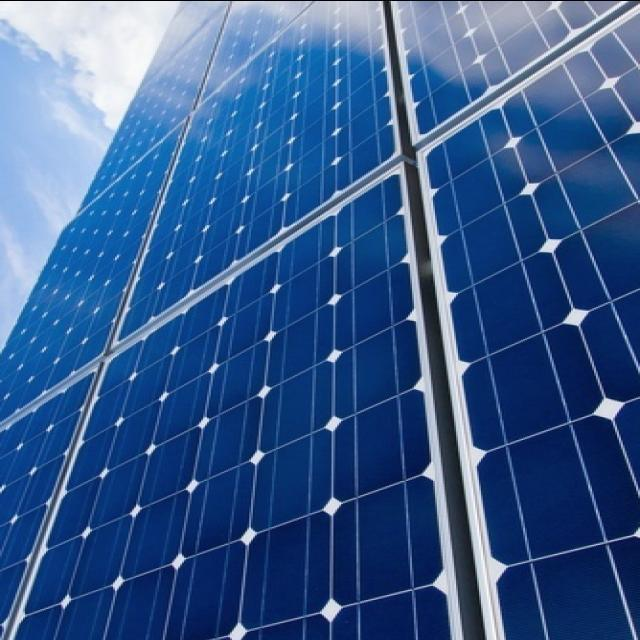no faulty: (15, 177, 452, 640), (430, 12, 640, 640), (118, 0, 397, 342), (0, 128, 180, 413), (77, 12, 223, 212), (400, 2, 618, 128), (0, 375, 92, 623), (205, 3, 307, 88)
